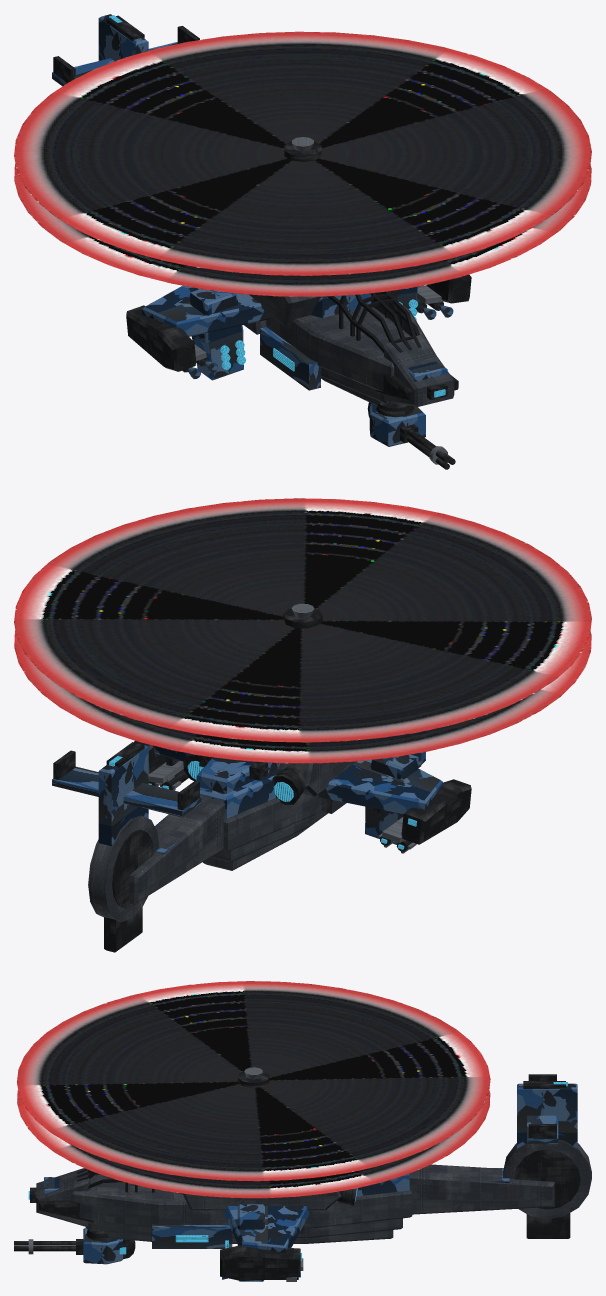
Rendered from nightjar-attack-helo.glb.
3 renders of one model, top to bottom at view 1: azimuth 30°, elevation 25°; view 2: azimuth 150°, elevation 25°; view 3: azimuth 270°, elevation 25°, orthographic. The views are drawn at different scales.
Visible parts, largest first — view 1: rotor_upper_disc, rotor_lower_disc, mid_body, wing_panel_l, wingtip_pod_l, pod_shell_l, nose_cone, sponson_l, turret_body, fin_upper, engine_l, wingtip_pod_r (+2 smaller); view 2: rotor_upper_disc, rotor_lower_disc, tail_boom, wing_panel_l, fin_upper, fan_shroud_outer, mid_body, wingtip_pod_l, stabiliser, fan_duct, spine, pod_shell_l (+6 smaller); view 3: rotor_upper_disc, rotor_lower_disc, mid_body, tail_boom, fin_upper, wingtip_pod_r, wing_panel_r, fan_duct, fan_shroud_outer, engine_r, lower_belly, sponson_r (+9 smaller).
Part boxes in pixels (box(x1,y1,x2,y2)): rotor_upper_disc: box(14, 31, 591, 275); rotor_lower_disc: box(14, 164, 591, 296); mid_body: box(266, 303, 435, 391); wing_panel_l: box(141, 285, 271, 336); wingtip_pod_l: box(126, 305, 196, 371); pod_shell_l: box(190, 289, 243, 380); nose_cone: box(384, 335, 454, 406); sponson_l: box(260, 327, 320, 390); turret_body: box(369, 403, 425, 446); fin_upper: box(98, 14, 148, 60); engine_l: box(249, 294, 321, 325); wingtip_pod_r: box(426, 274, 471, 303); rotor_upper_disc: box(14, 498, 591, 742); rotor_lower_disc: box(14, 630, 591, 763); tail_boom: box(129, 795, 225, 904); wing_panel_l: box(318, 760, 442, 813); fin_upper: box(98, 745, 148, 846); fan_shroud_outer: box(88, 815, 159, 921); mid_body: box(222, 793, 322, 851); wingtip_pod_l: box(401, 779, 471, 844); stabiliser: box(52, 766, 201, 817); fan_duct: box(112, 829, 153, 908); spine: box(197, 757, 279, 793); pod_shell_l: box(365, 754, 418, 844); rotor_upper_disc: box(17, 981, 490, 1181); rotor_lower_disc: box(17, 1089, 490, 1198); mid_body: box(71, 1175, 412, 1228); tail_boom: box(409, 1164, 554, 1214); fin_upper: box(517, 1083, 577, 1148); wingtip_pod_r: box(220, 1245, 300, 1280); wing_panel_r: box(224, 1206, 309, 1252); fan_duct: box(514, 1149, 580, 1209); fan_shroud_outer: box(503, 1140, 591, 1219); engine_r: box(183, 1191, 341, 1210); lower_belly: box(85, 1218, 402, 1237); sponson_r: box(152, 1224, 232, 1248).
Bounding box in the file's own units: 10 × 4.31 × 12.2.
Materials: 8 (6 with a texture image).
